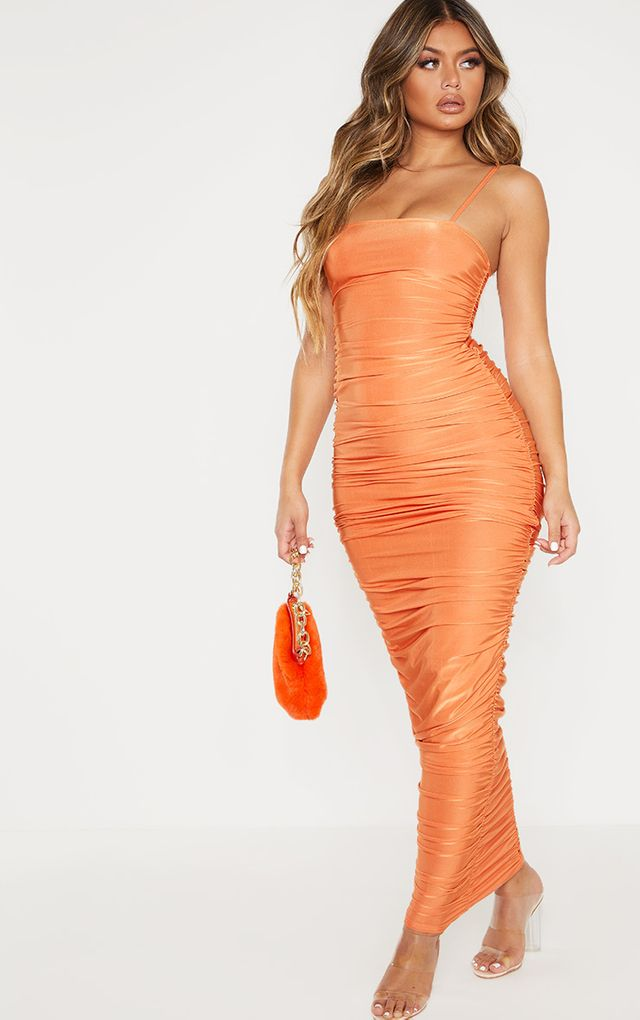C_dress: (290, 154, 534, 934)
